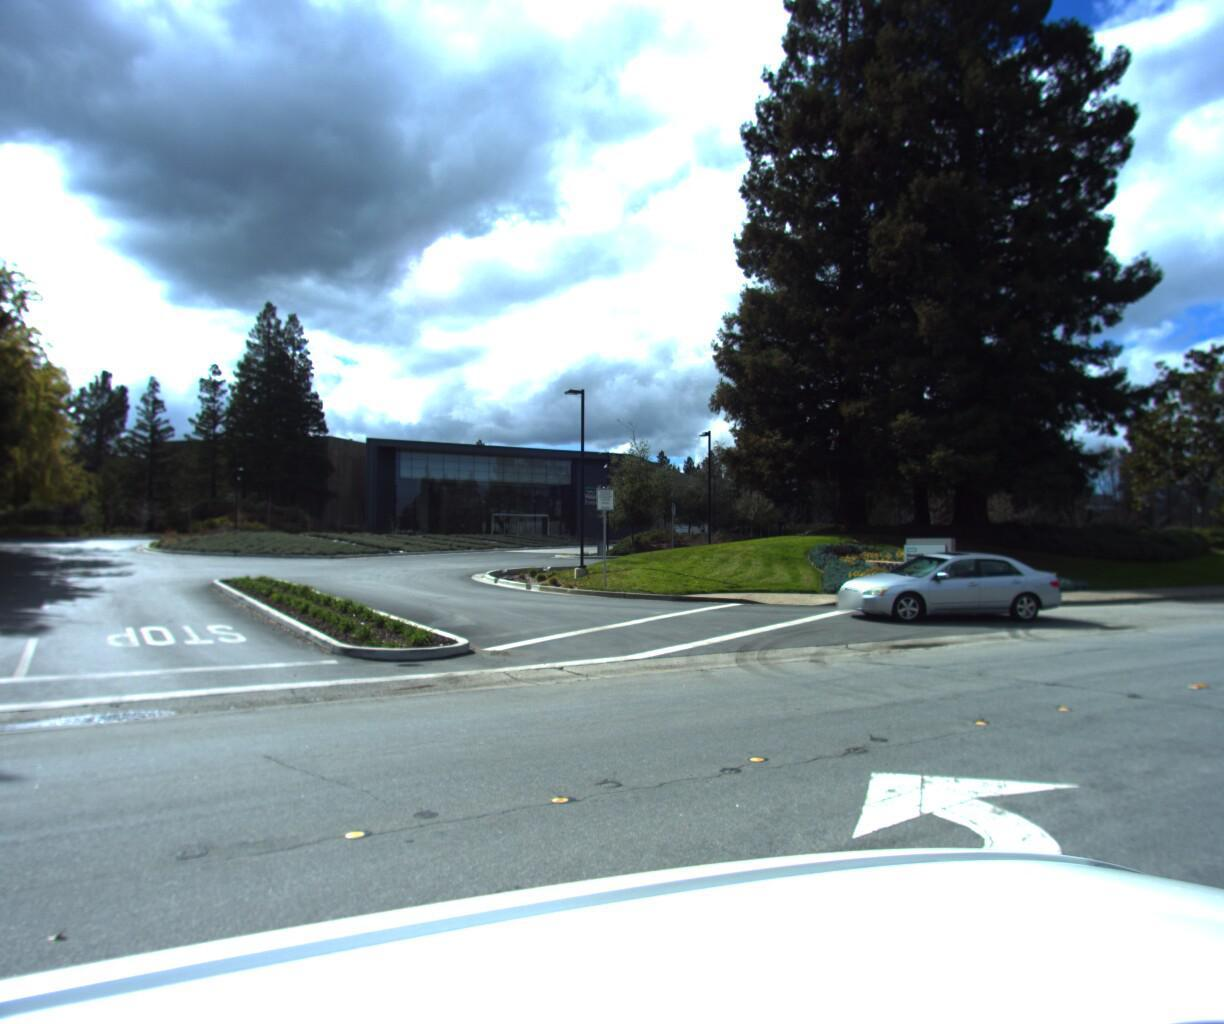car: (827, 551, 1067, 630)
